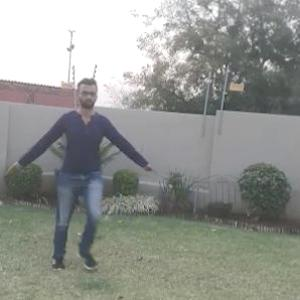land: (25, 89, 138, 244)
